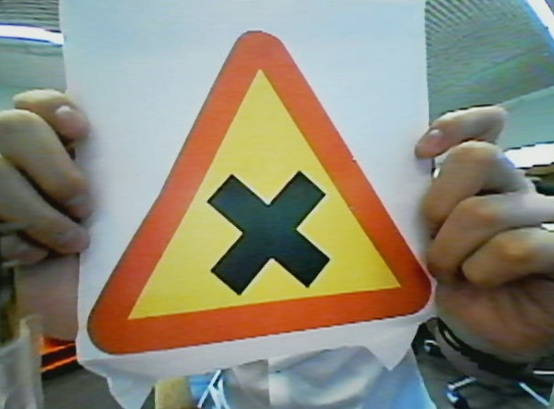junction: (96, 8, 482, 355)
